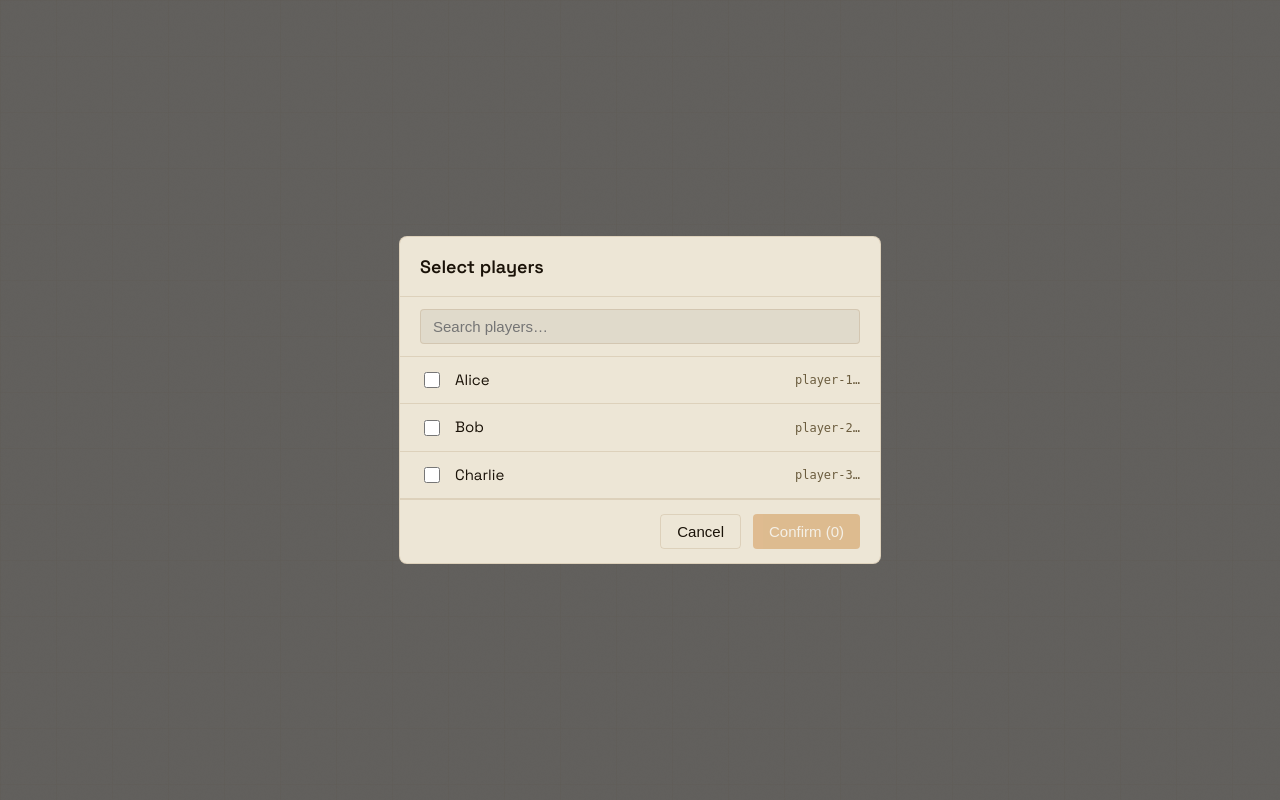
Test case: PlayerSelectModal › clear button appears when filter has text
The width and height of the screenshot is (1280, 800).
Type "x" into the field labelled "Search players".
click(640, 326); type("x")  # box [420,309,860,344]
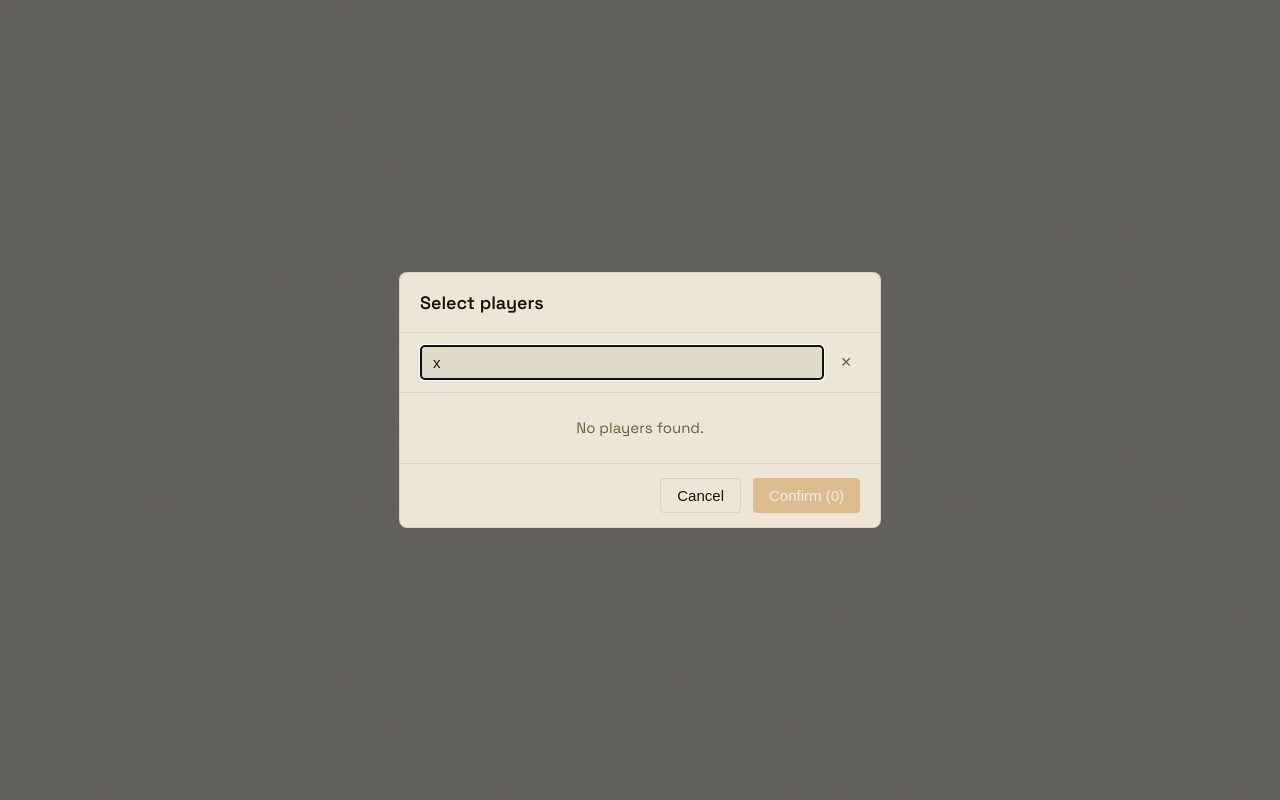
Check: the button named "Clear search" is shown, box [832,351,860,373]
